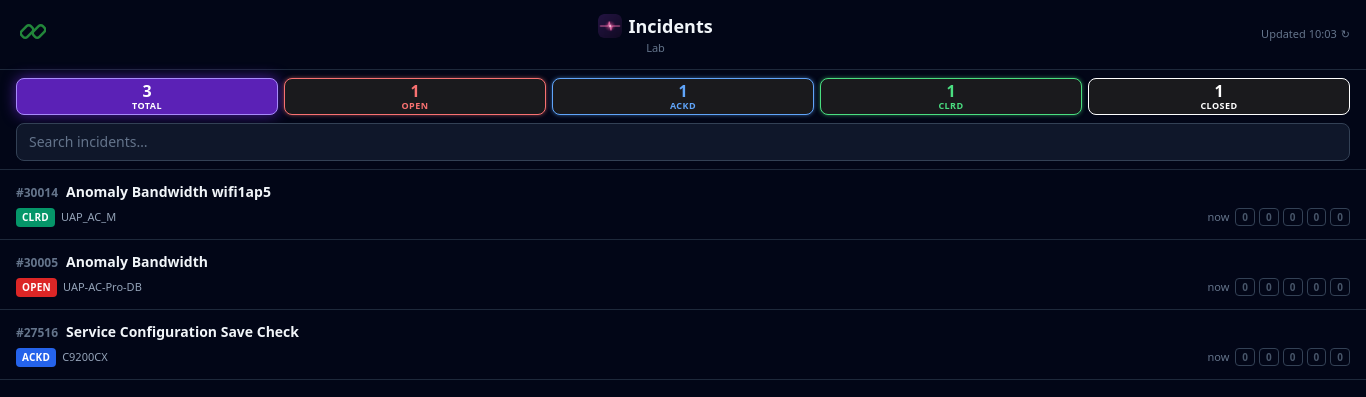
Test: IncidentListScreen › renders a CLOSED row under CLOSED with a grey chip
Click the tab "1 CLOSED": (1219, 96) [1088,78,1350,114]
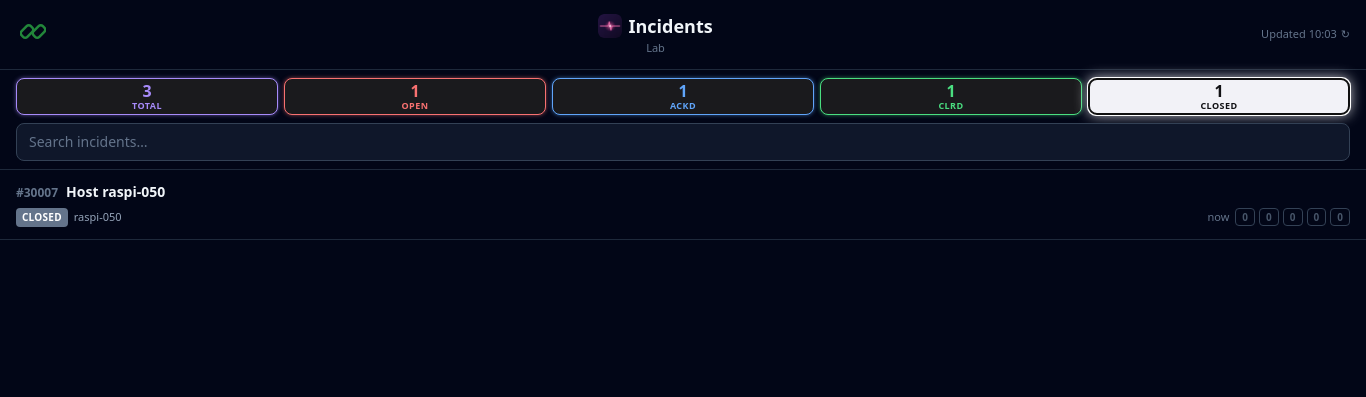
expect the text "#30007" is shown: met, box [16,184,58,200]
